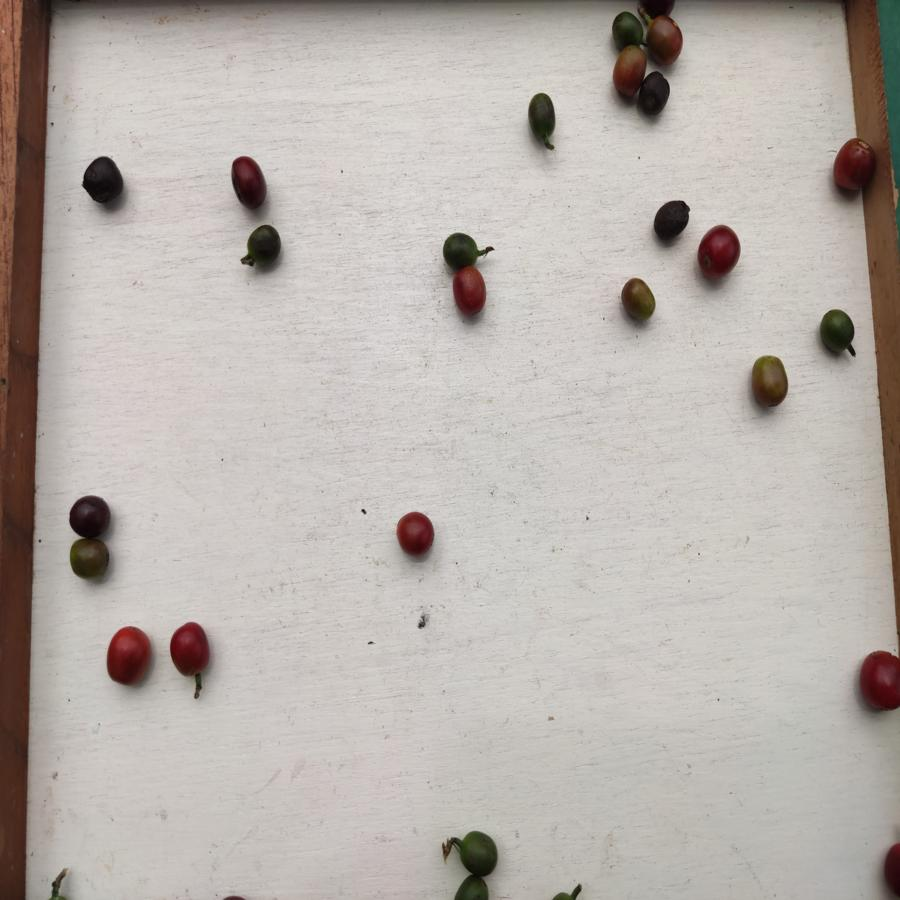Inmaduro: (454, 828, 504, 882), (814, 308, 859, 358), (525, 93, 558, 141), (247, 223, 283, 267), (442, 232, 482, 268), (610, 11, 644, 48)
Maduro: (165, 621, 217, 684), (857, 645, 900, 717), (104, 626, 155, 685), (831, 135, 877, 197), (696, 222, 742, 281), (451, 267, 490, 319), (393, 511, 436, 555)
Pinton: (747, 353, 795, 407), (620, 277, 657, 321), (646, 19, 685, 60), (65, 542, 109, 576), (614, 48, 641, 101)
Sobremaduro: (227, 153, 270, 210), (82, 155, 125, 207), (65, 496, 113, 539), (649, 200, 690, 242), (639, 69, 671, 117)
